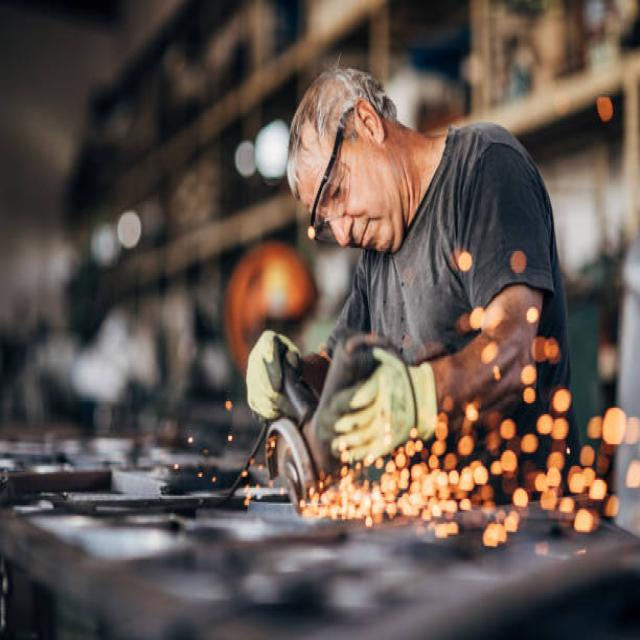gloves: (319, 342, 440, 469), (248, 329, 306, 419)
